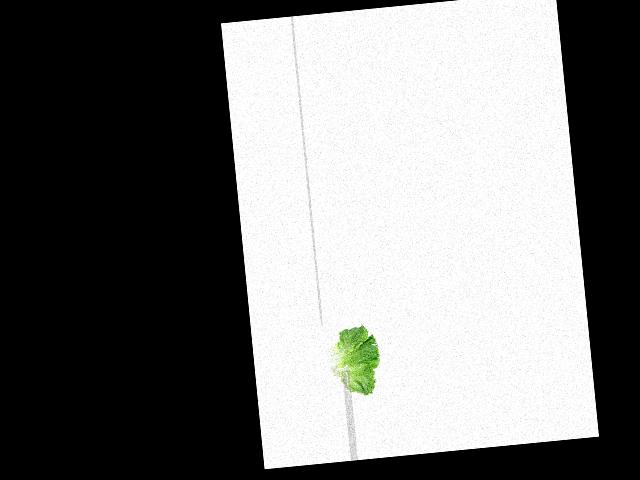lettuce: (325, 324, 382, 395)
